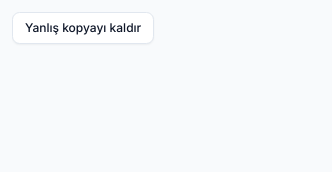
Test: RemoveManualCopyButton › 🚨 son kopya (409 last_copy): cümle BİLGİ olarak gösterilir (hata değil); sayfa bu satırın anahtarına geçer — öteki yöneticinin sildiği anahtar 404 olurdu
Step 1. Click the button "Yanlış kopyayı kaldır" → (83, 28), box [12,12,154,44]
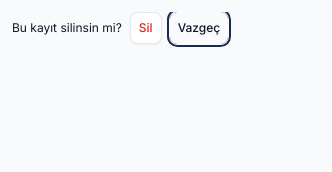
Step 2. Click the button "Sil" → (146, 28), box [130,12,162,44]
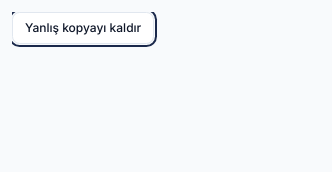
Expected: the text "Bu kayıt silinsin mi?" is gone
